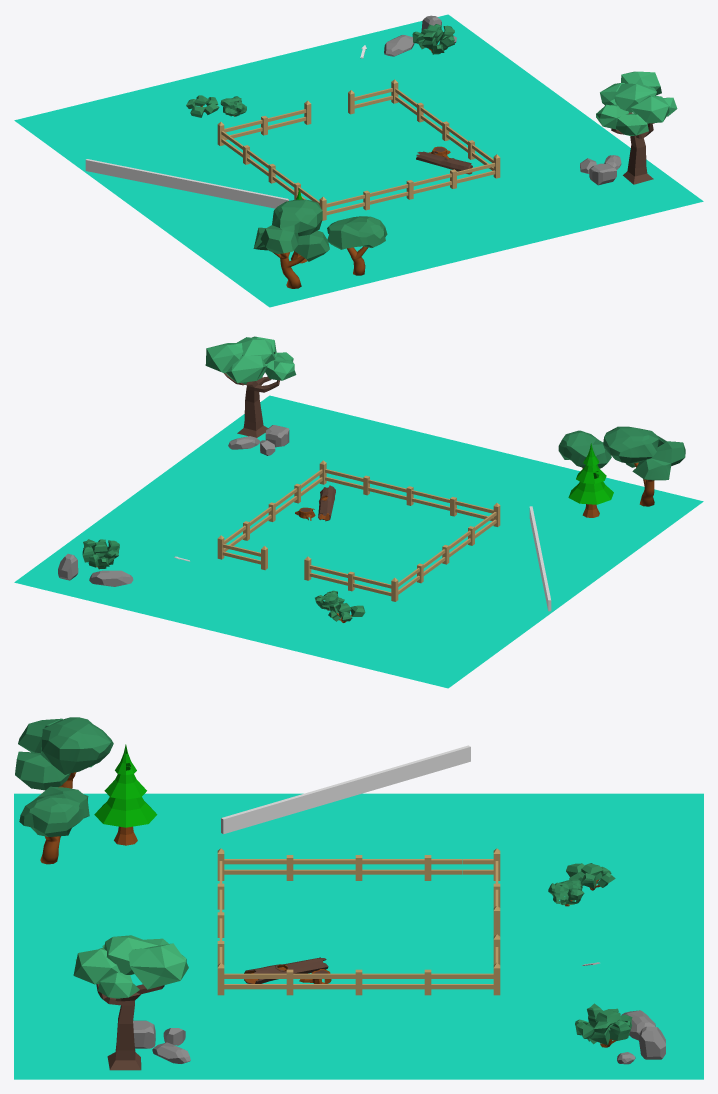
The model's file is region-1.glb.
3 views of the same model, one above another, from view 1: azimuth 30°, elevation 25°; view 2: azimuth 150°, elevation 25°; view 3: azimuth 270°, elevation 25° (orthographic). The views are drawn at different scales.
Parts seen in each view (by area): view 1: rock-6.2237, fence; view 2: rock-6.2237, fence; view 3: rock-6.2237, fence.
Boxes of the visible parts, bbox=[...] form: rock-6.2237: bbox=[14, 14, 703, 307]; fence: bbox=[85, 159, 288, 208]; rock-6.2237: bbox=[14, 336, 703, 688]; fence: bbox=[529, 506, 551, 611]; rock-6.2237: bbox=[14, 717, 703, 1079]; fence: bbox=[221, 745, 470, 834].
Bounding box in the file's own units: 31.06 × 6.13 × 30.
